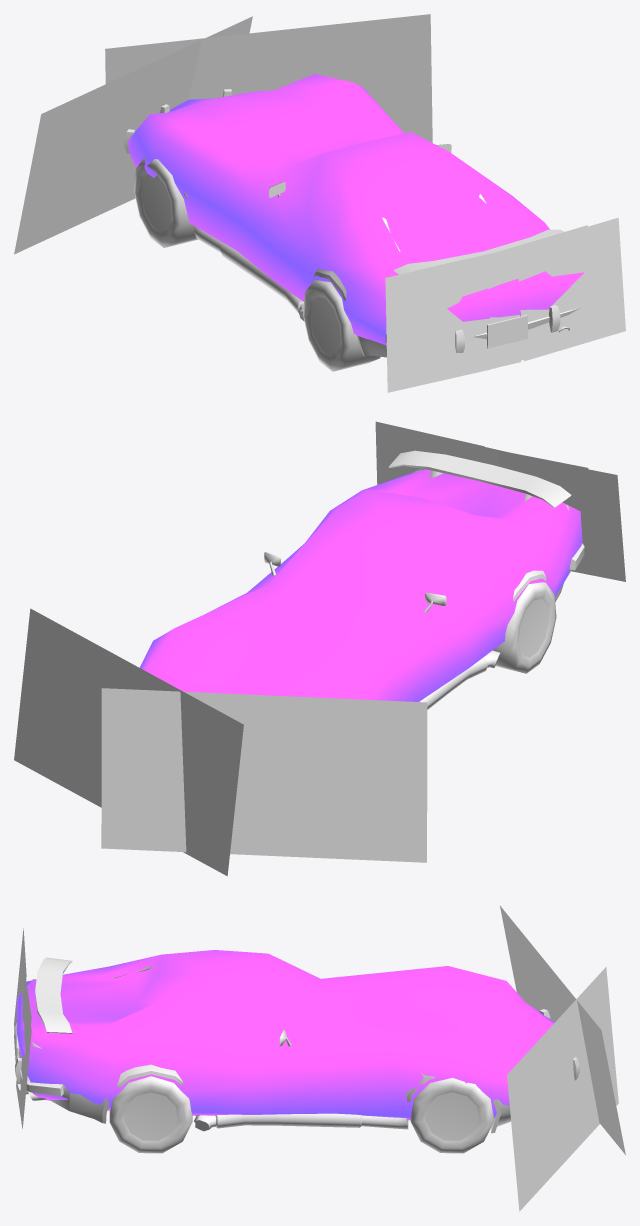
File: Corvette.fbx
3 views of the same model, one above another, from view 1: azimuth 30°, elevation 25°; view 2: azimuth 150°, elevation 25°; view 3: azimuth 270°, elevation 25° (orthographic). The views are drawn at different scales.
Parts seen in each view (by area): view 1: CorvetteProxy, CorvetteFrontLights, CorvetteRearLights, CorvetteWheel_LB, CorvetteWheel_LF, Corvette, CorvetteRearBumper2, CorvetteSpoiler1; view 2: CorvetteFrontLights, CorvetteProxy, CorvetteRearLights, CorvetteWheel_LB, CorvetteSpoiler1, Corvette; view 3: CorvetteProxy, CorvetteFrontLights, CorvetteWheel_RB, Corvette, CorvetteWheel_RF, CorvetteSpoiler1, CorvetteRearLights, CorvetteRearBumper2.
Part boxes in pixels (box(x1,y1,x2,y2)): CorvetteProxy: box(128, 74, 584, 345); CorvetteFrontLights: box(14, 14, 432, 254); CorvetteRearLights: box(385, 217, 625, 392); CorvetteWheel_LB: box(303, 280, 380, 371); CorvetteWheel_LF: box(134, 157, 198, 247); Corvette: box(184, 144, 486, 357); CorvetteRearBumper2: box(385, 305, 580, 352); CorvetteSpoiler1: box(393, 229, 564, 274); CorvetteFrontLights: box(14, 608, 427, 876); CorvetteProxy: box(139, 469, 582, 701); CorvetteRearLights: box(375, 421, 625, 581); CorvetteWheel_LB: box(493, 582, 556, 673); CorvetteSpoiler1: box(389, 450, 571, 507); Corvette: box(264, 469, 568, 709); CorvetteProxy: box(17, 950, 554, 1120); CorvetteFrontLights: box(500, 906, 625, 1211); CorvetteWheel_RB: box(109, 1076, 192, 1153); Corvette: box(32, 959, 510, 1133); CorvetteWheel_RF: box(410, 1078, 493, 1153); CorvetteSpoiler1: box(35, 957, 72, 1033); CorvetteRearLights: box(14, 928, 31, 1128); CorvetteRearBumper2: box(15, 1020, 69, 1110).
Size of the model in its own units: 3.93 by 5.62 by 1.62.
